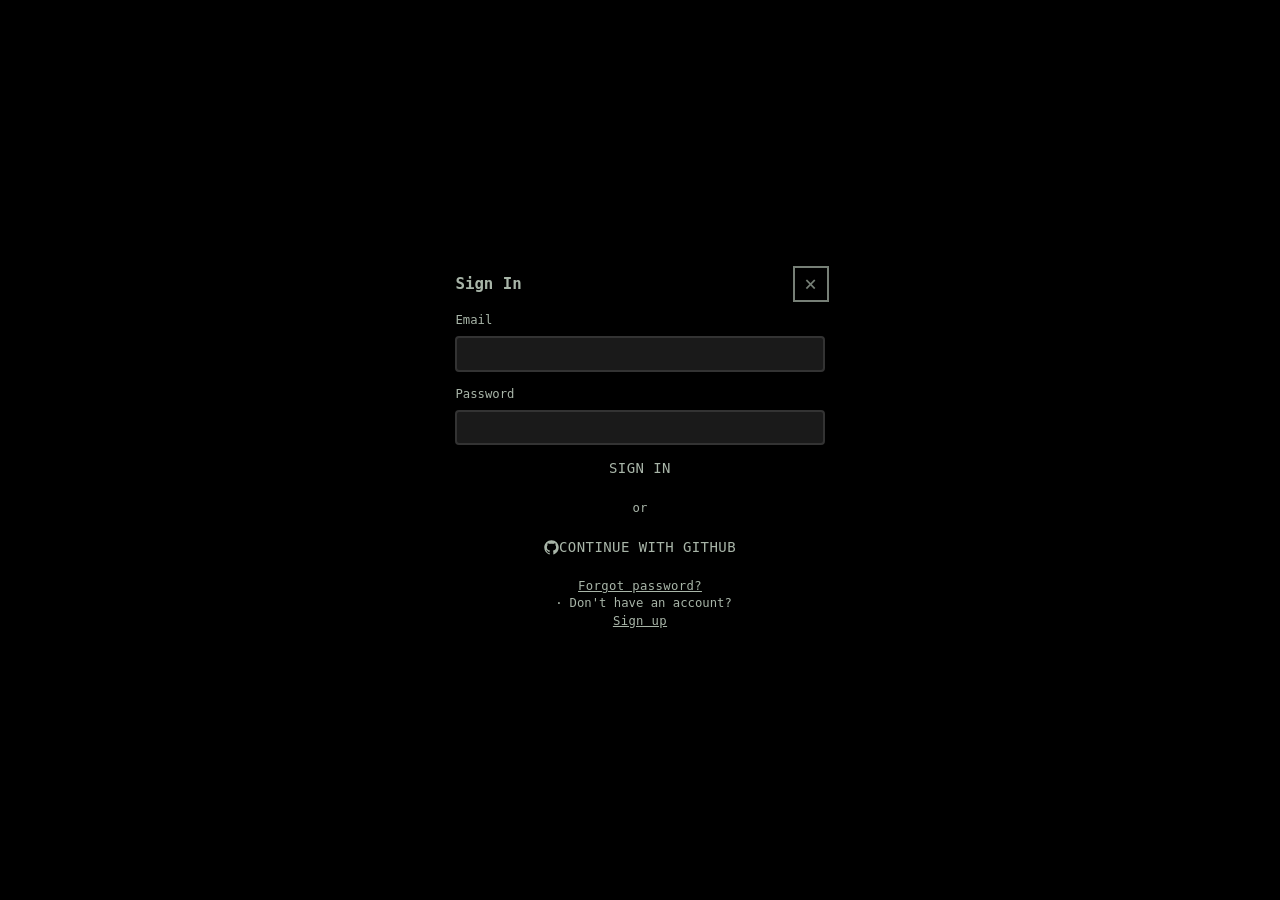
Test: AuthModal › sign up flow › displays error on sign up failure
Click the button "Sign up" at (640, 621), box x1=455 y1=612 x2=824 y2=630
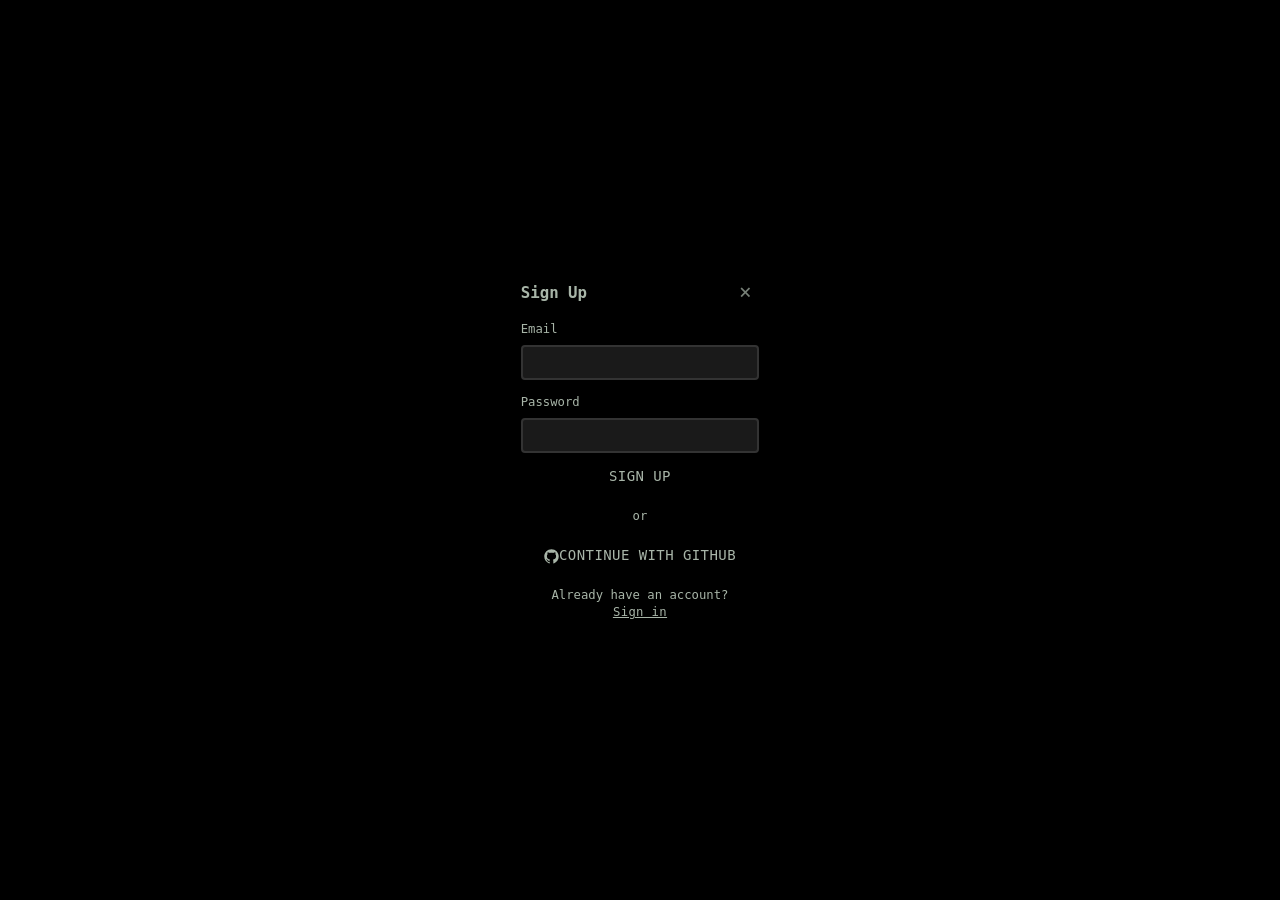
Type "existing@example.com" into the field labelled "Email" at (640, 363), box x1=521 y1=345 x2=759 y2=380
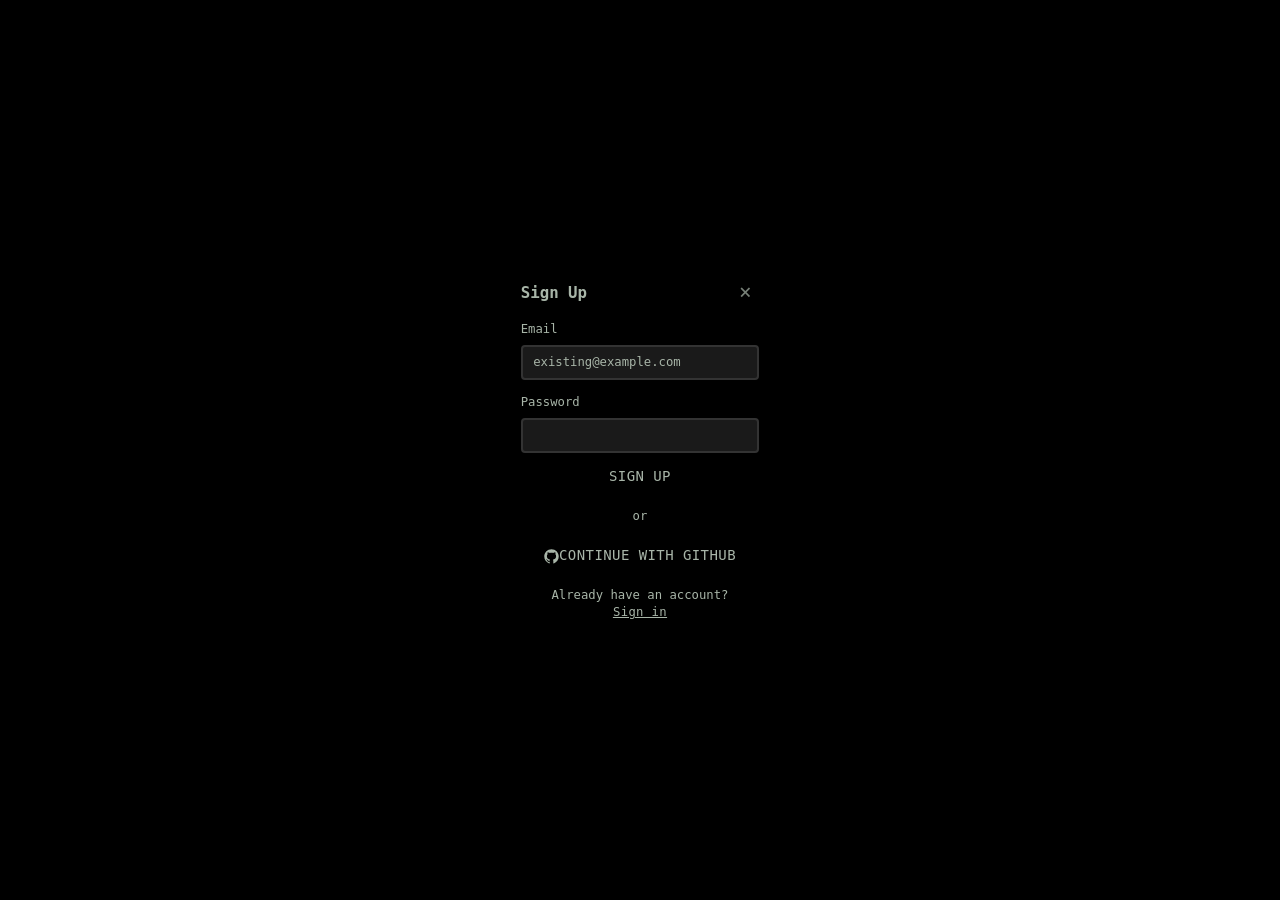
Type "password123" into the password field labelled "Password" at (640, 436), box x1=521 y1=418 x2=759 y2=453
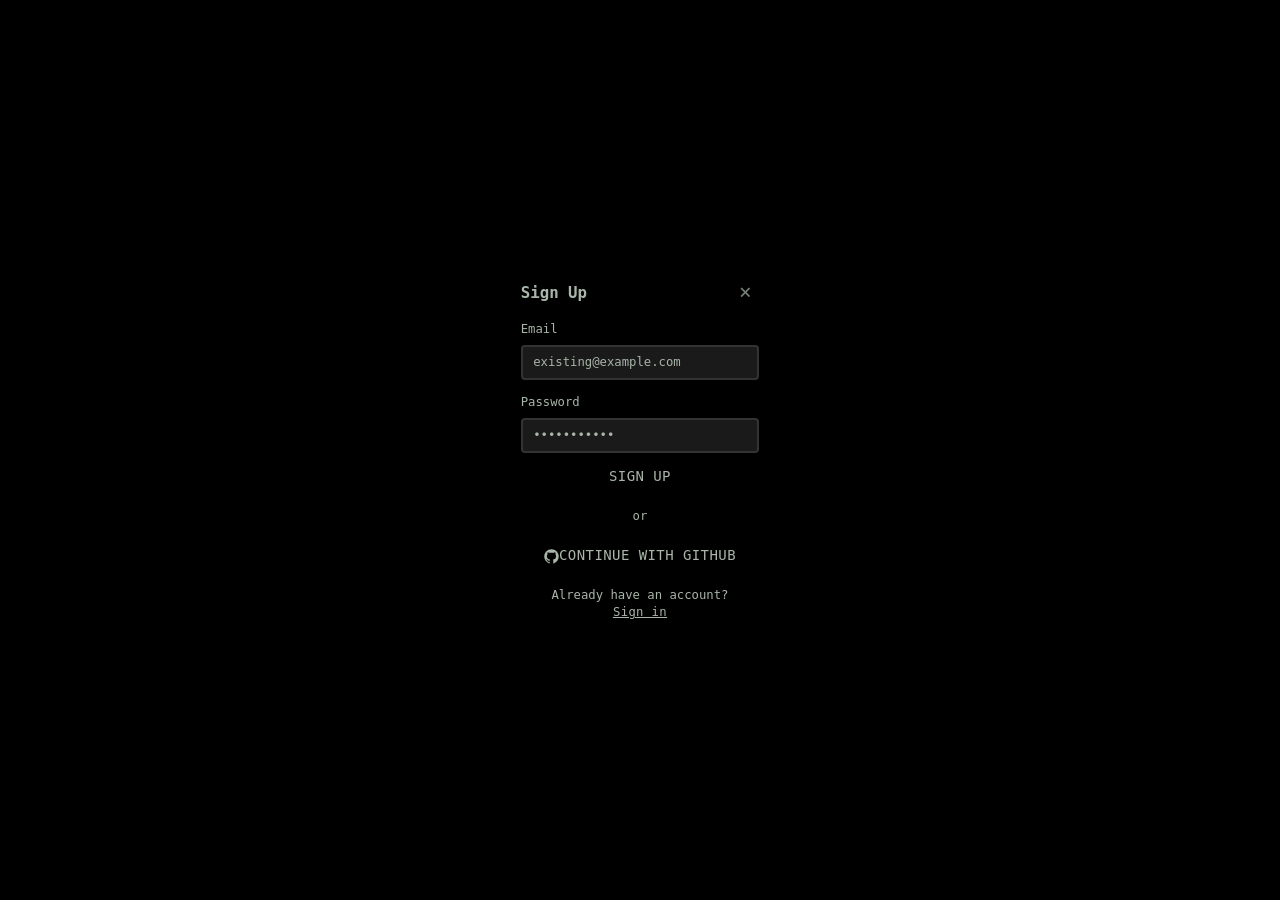
Click the button "Sign Up" at (640, 477), box x1=521 y1=468 x2=759 y2=487
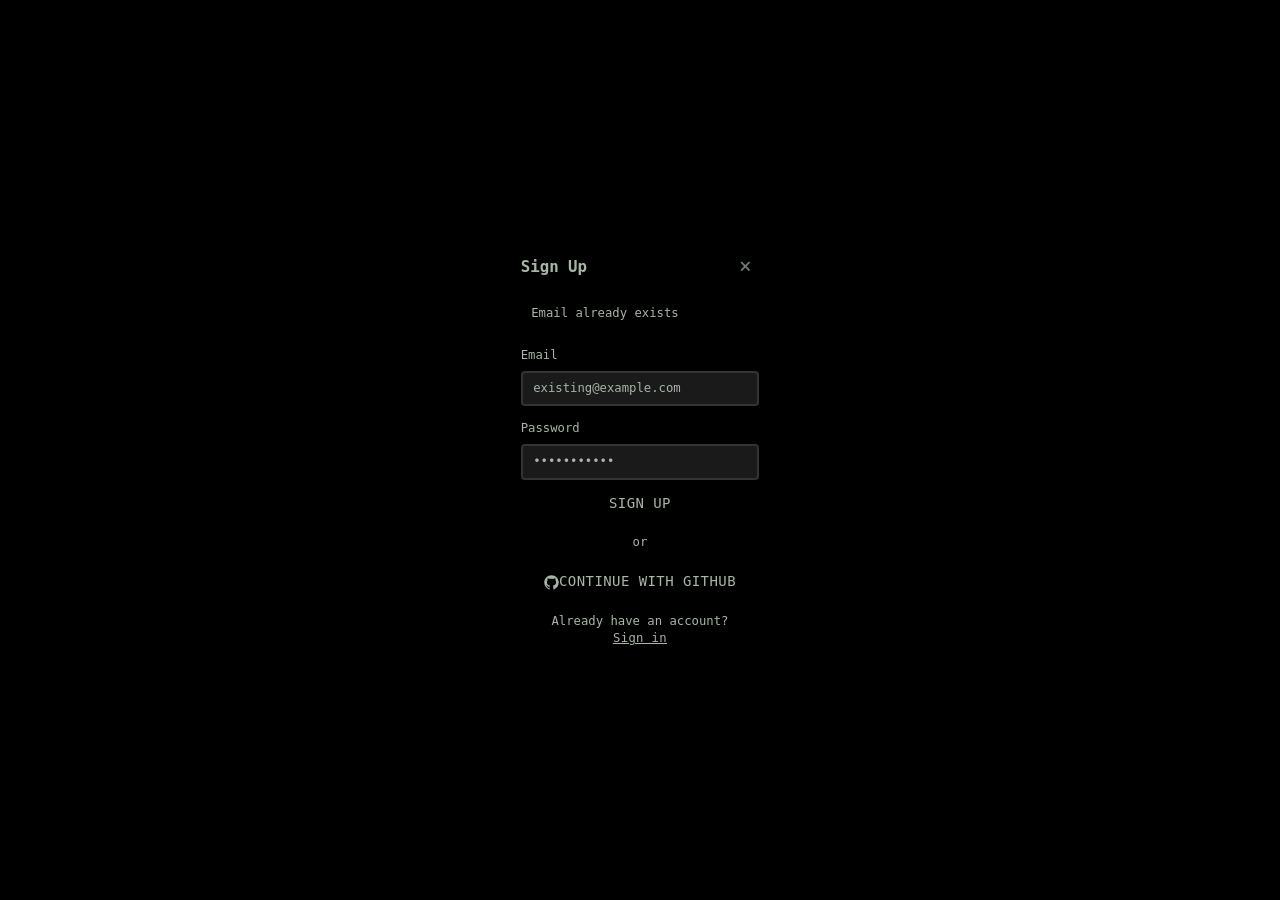
Result: the text "Email already exists" is shown at x1=531 y1=306 x2=679 y2=320
